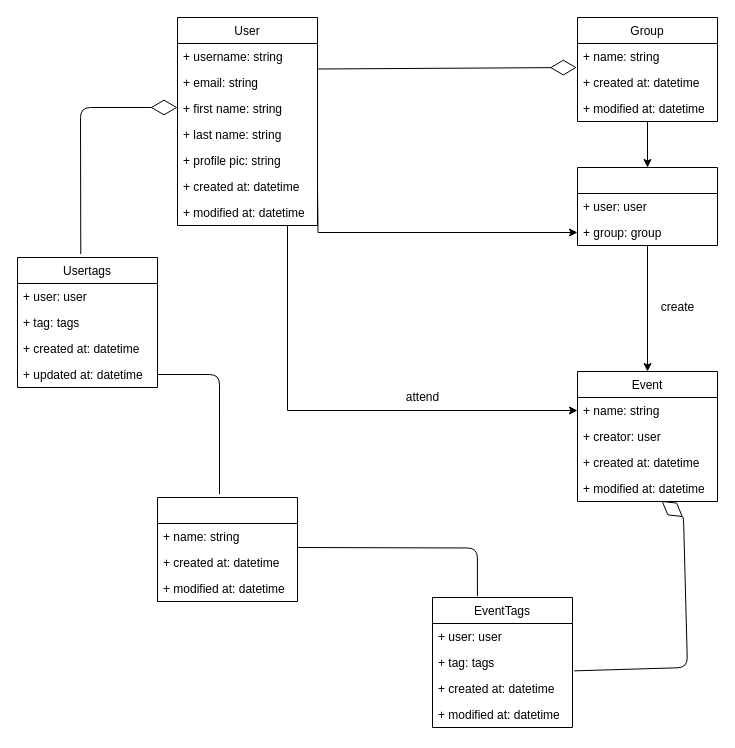
This 735x748 diagram has some shape labels left out. Each missing label, with the box of its shape:
Group Owner: (576, 166, 718, 246)
Tags: (156, 496, 298, 602)
